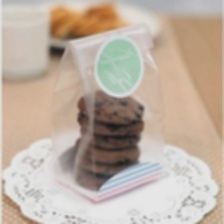snack: (45, 16, 179, 208)
